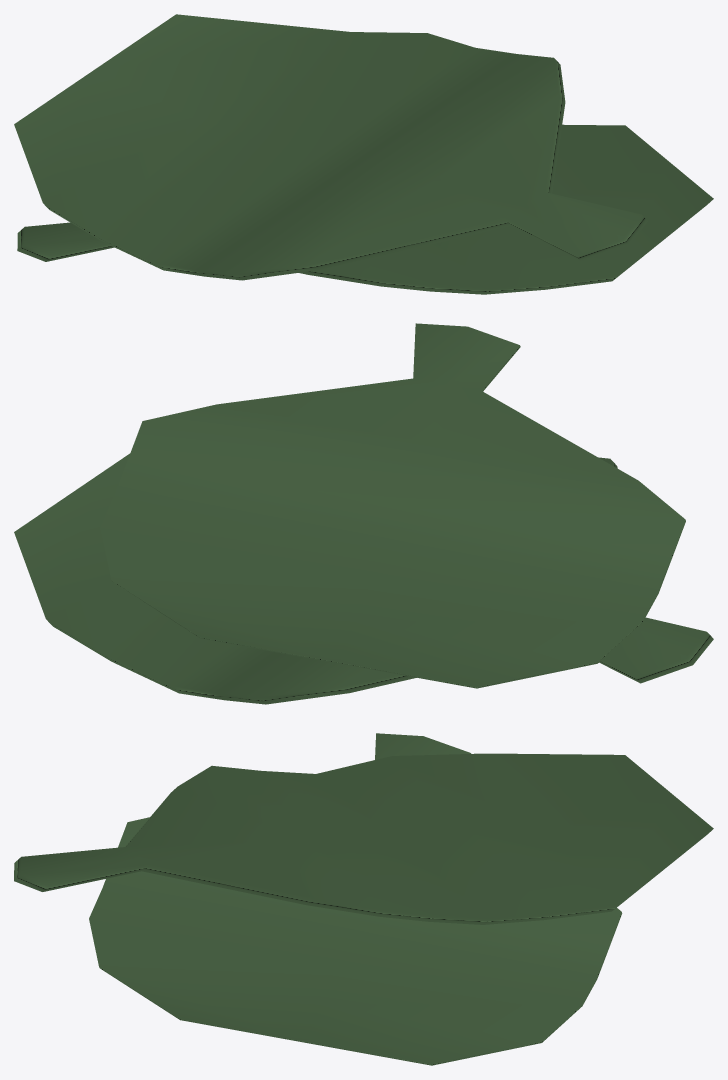
File: SM_LettuceLeaf2.fbx
3 views of the same model, one above another, from view 1: azimuth 30°, elevation 25°; view 2: azimuth 150°, elevation 25°; view 3: azimuth 270°, elevation 25° (orthographic). The views are drawn at different scales.
Parts seen in each view (by area): view 1: LettuceLeaf2; view 2: LettuceLeaf2; view 3: LettuceLeaf2.
Part boxes in pixels (<box>): LettuceLeaf2: <box>14,14,713,294</box>; LettuceLeaf2: <box>14,323,713,704</box>; LettuceLeaf2: <box>14,733,713,1065</box>.
Size of the model in its own units: 12.93 by 2.75 by 12.75.
